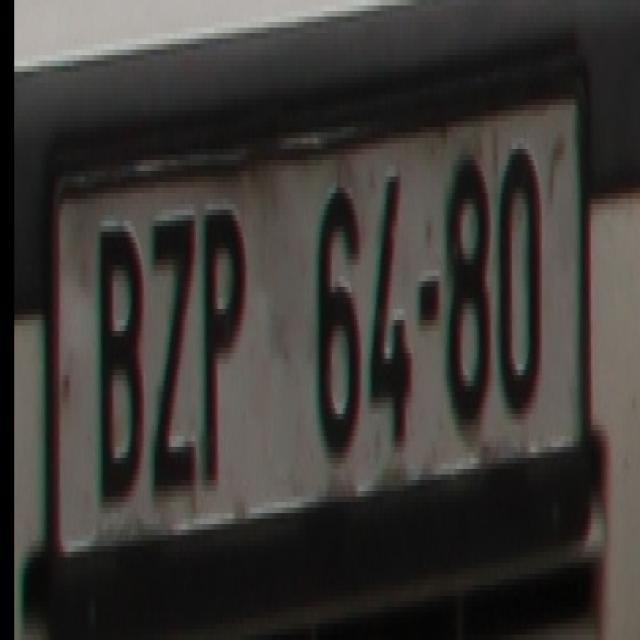0: (494, 133, 546, 420)
4: (365, 160, 414, 458)
6: (314, 182, 362, 452)
8: (447, 160, 493, 430)
B: (92, 204, 148, 497)
P: (199, 193, 248, 491)
Z: (148, 204, 198, 497)
